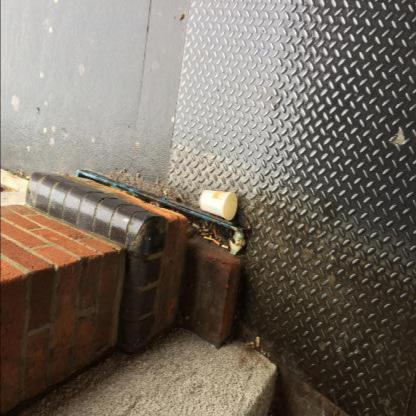Cigarette: (213, 230, 218, 240), (213, 239, 220, 246), (192, 223, 200, 229), (202, 219, 206, 228), (199, 229, 209, 232), (221, 245, 228, 249), (230, 240, 234, 246), (210, 223, 214, 228), (204, 220, 209, 224), (204, 220, 207, 226), (229, 243, 232, 249), (201, 234, 208, 236), (25, 177, 30, 179), (230, 232, 232, 236), (250, 343, 254, 345)
Cup: (199, 189, 237, 220)
Unlabeled litter: (229, 231, 246, 255)
